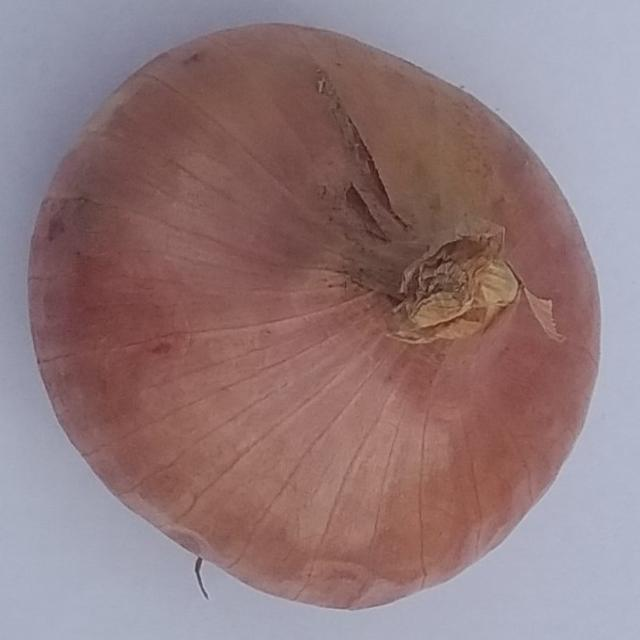onion: (22, 18, 607, 612)
